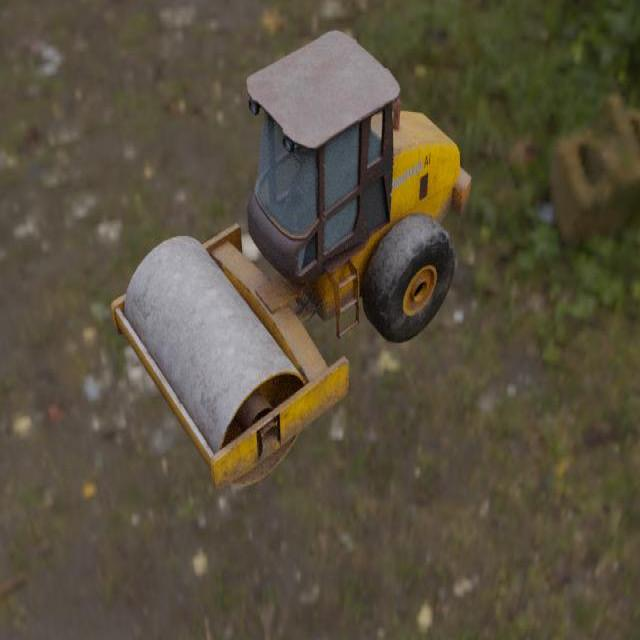Roller: (110, 29, 471, 490)
